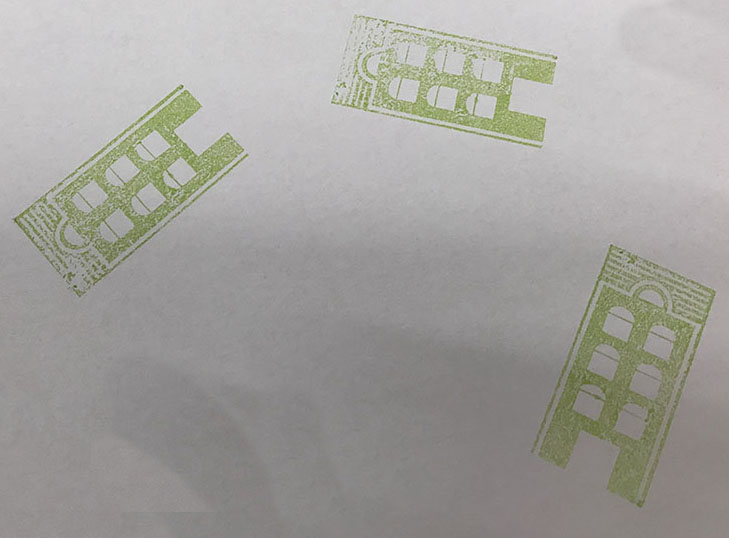build: (1, 62, 256, 324), (529, 230, 719, 522), (314, 3, 571, 163)
